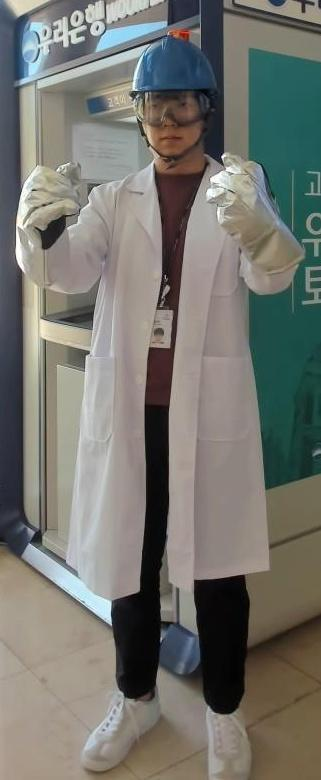lab_coat: (75, 218, 233, 577)
